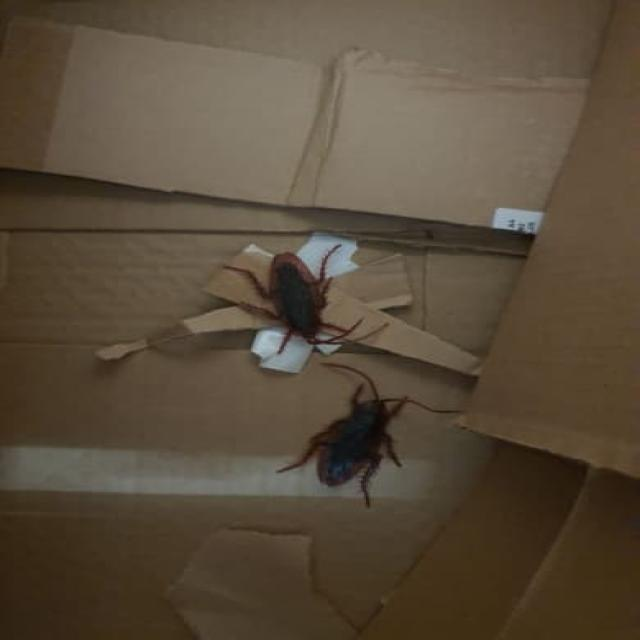Cockroach: (276, 366, 417, 508), (222, 232, 381, 354)
